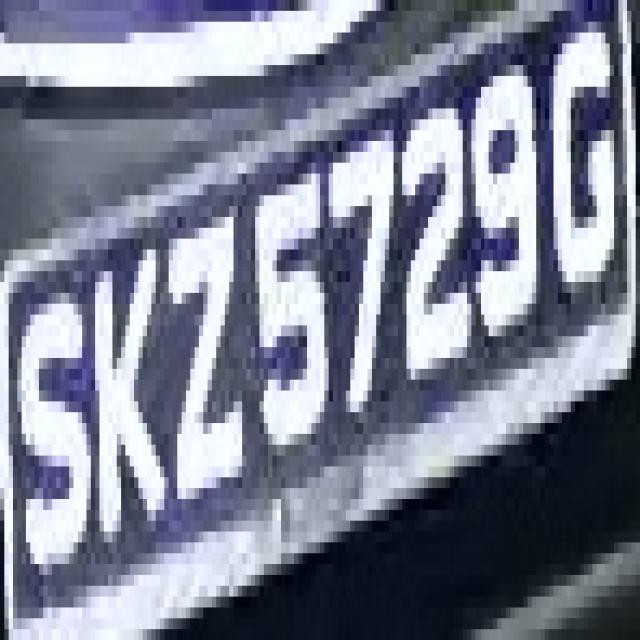2: (381, 87, 472, 390)
5: (246, 163, 333, 466)
7: (311, 130, 398, 434)
9: (454, 55, 545, 336)
G: (532, 33, 623, 314)
K: (95, 206, 164, 564)
S: (4, 271, 95, 629)
Z: (147, 206, 247, 532)
